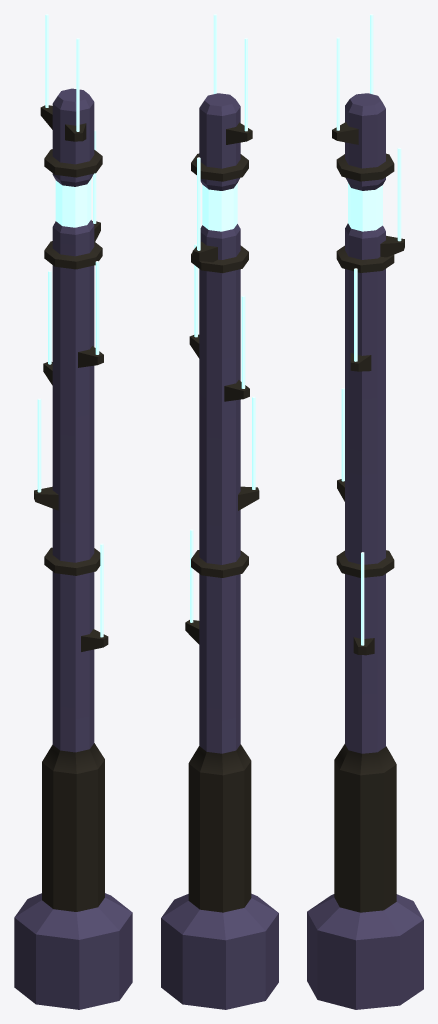
Rendered from Antena_03.fbx.
The picture shows the model from 3 angles, left to right: view 1: azimuth 30°, elevation 25°; view 2: azimuth 210°, elevation 25°; view 3: azimuth 330°, elevation 25°; orthographic projection.
Visible parts, largest first — view 1: Antena_03; view 2: Antena_03; view 3: Antena_03.
Part boxes in pixels (bbox=[...]): Antena_03: bbox=[14, 14, 132, 1009]; Antena_03: bbox=[161, 14, 278, 1009]; Antena_03: bbox=[307, 14, 423, 1009].
Size of the model in its own units: 690 by 6576 by 690.
